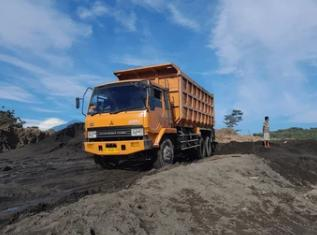vehicle: (76, 63, 215, 169)
